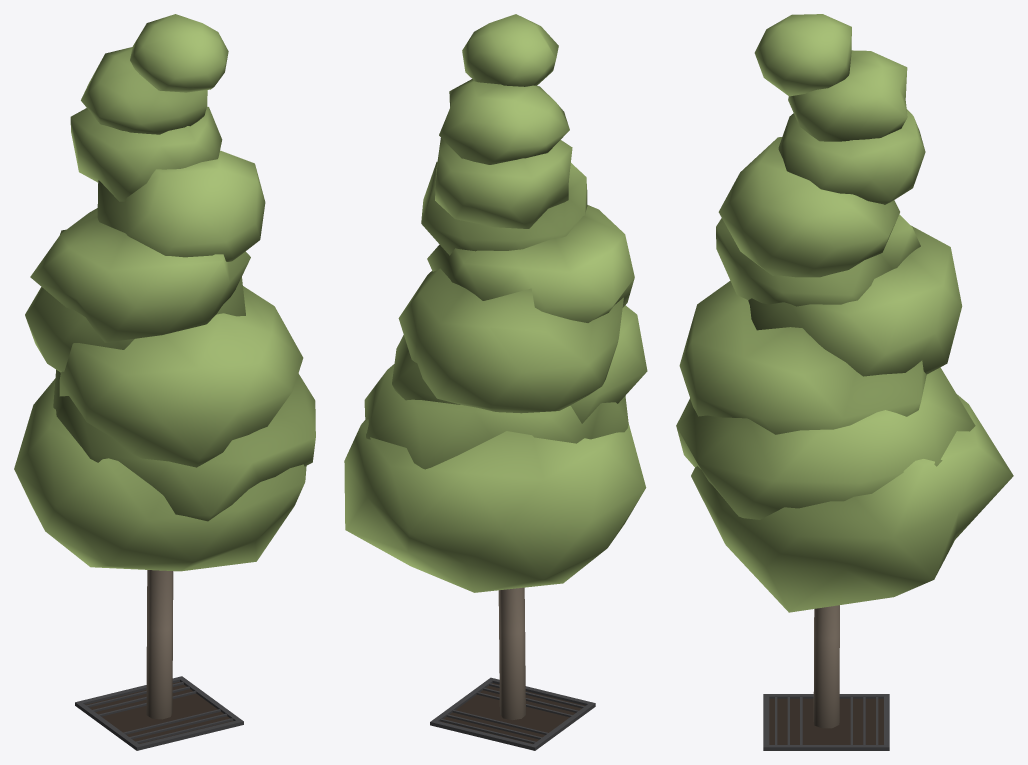
Rendered from tr_ginkgo.glb.
The picture shows the model from 3 angles, left to right: view 1: azimuth 30°, elevation 25°; view 2: azimuth 150°, elevation 25°; view 3: azimuth 270°, elevation 25°; orthographic projection. The views are drawn at different scales.
Parts seen in each view (by area): view 1: body; view 2: body; view 3: body.
Boxes of the visible parts, x1=… form: body: x1=14, y1=14, x2=315, y2=750; body: x1=344, y1=14, x2=647, y2=750; body: x1=676, y1=14, x2=1013, y2=750.
Size of the model in its own units: 3.14 by 8.07 by 3.48.
